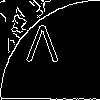V: (25, 25, 60, 72)
